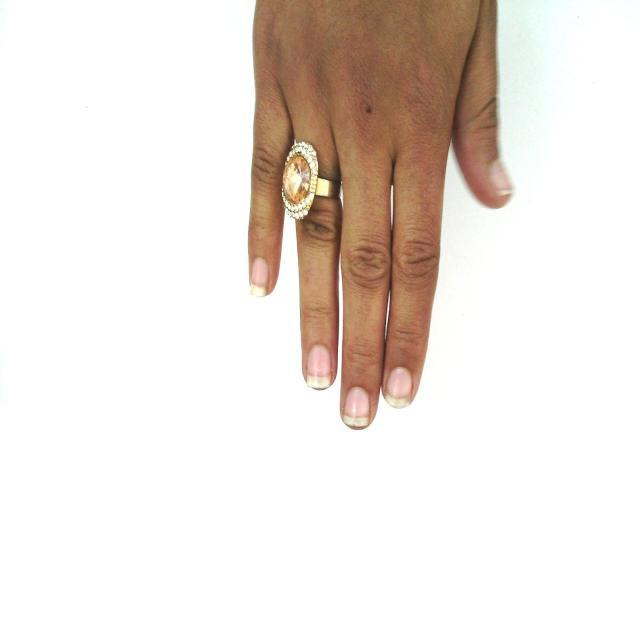Fingernail: (306, 345, 332, 389), (343, 387, 370, 429), (385, 367, 412, 407), (489, 160, 514, 193), (251, 258, 270, 297)
